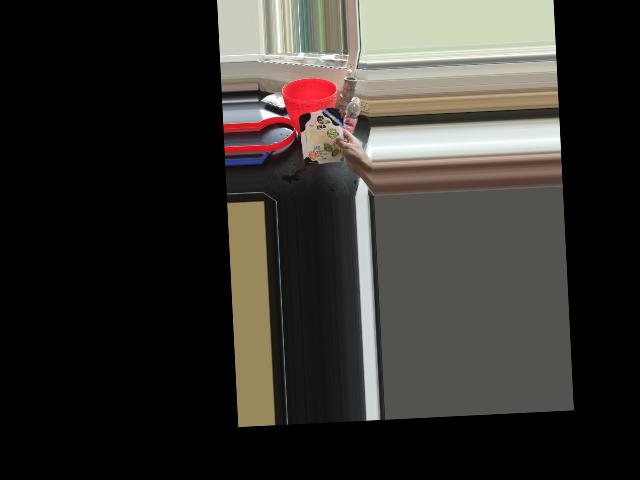cheese: (298, 106, 354, 160)
